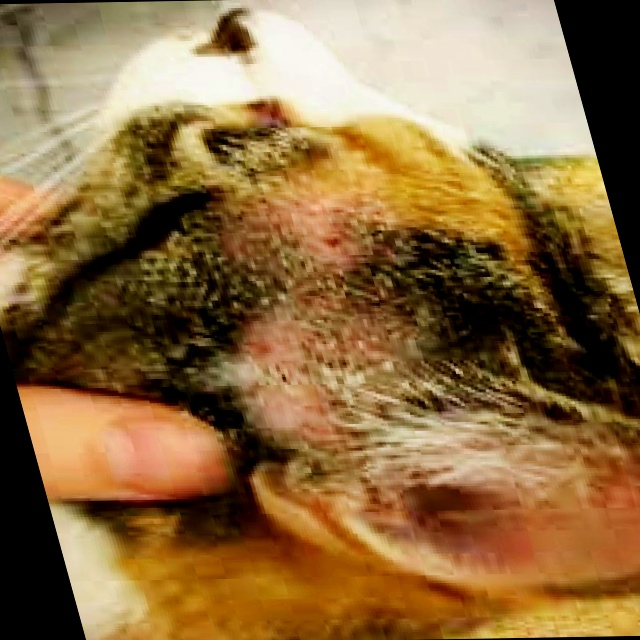ringworm: (261, 163, 388, 291), (243, 333, 315, 406)
